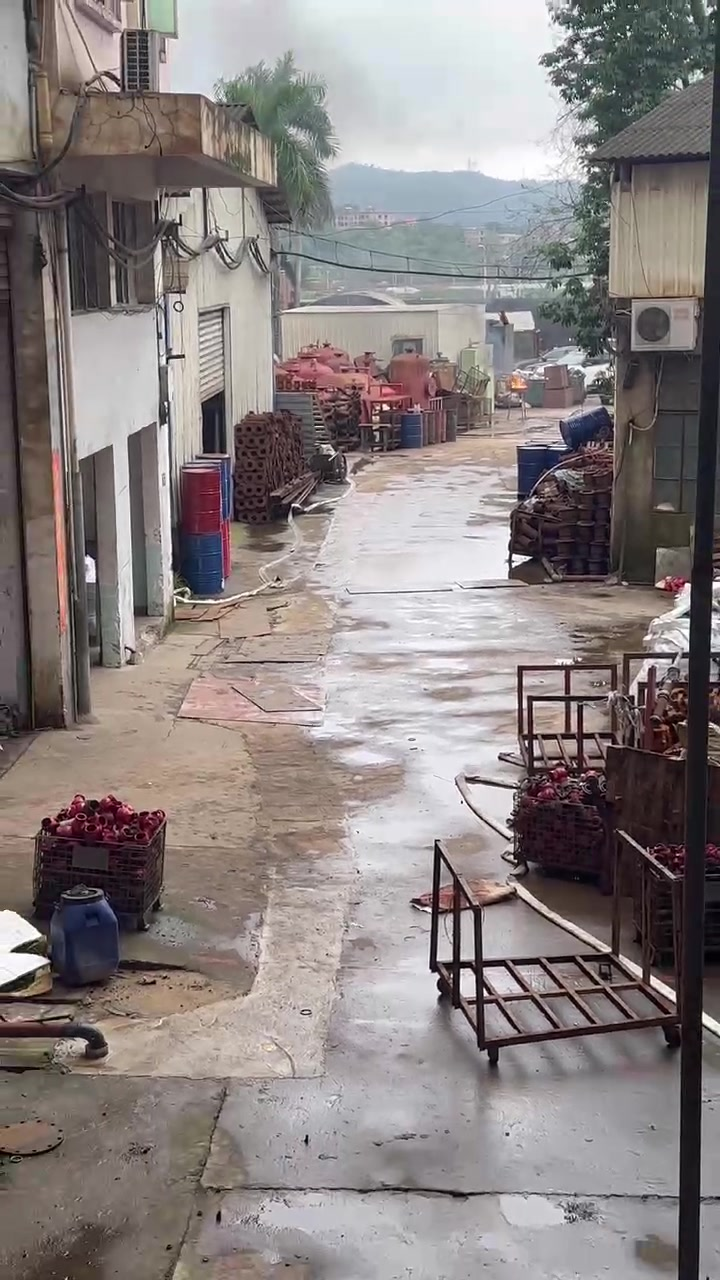fire: (510, 373, 526, 387)
